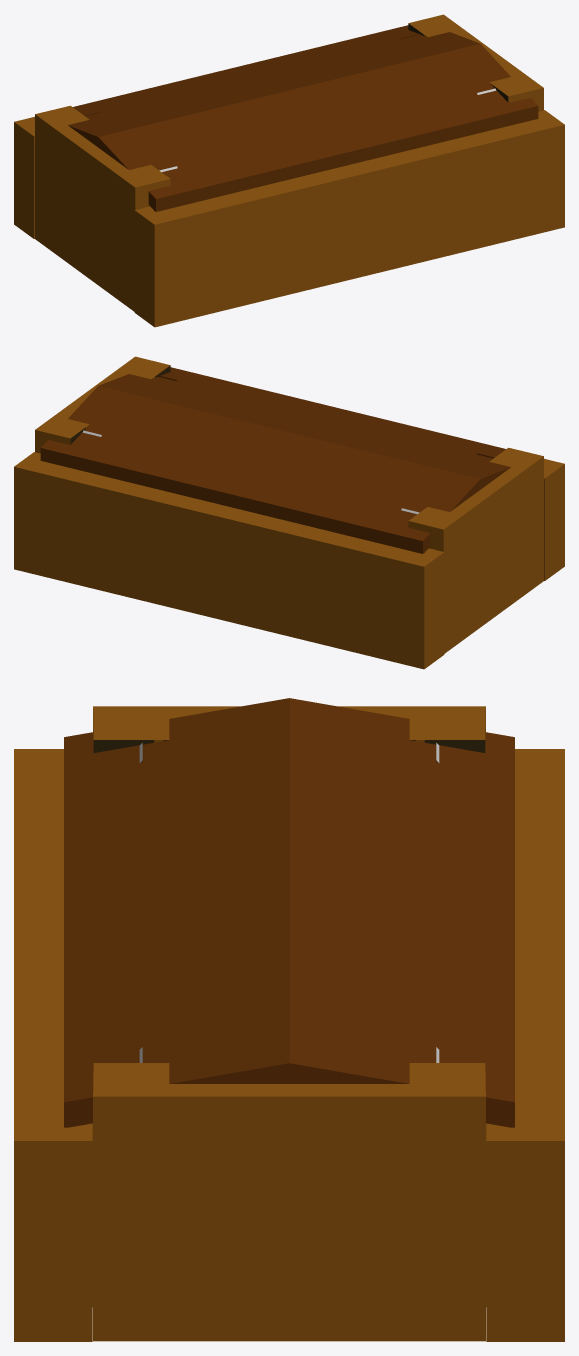
File: Kitchen_Dojo.fbx
The picture shows the model from 3 angles, top to bottom: view 1: azimuth 30°, elevation 25°; view 2: azimuth 150°, elevation 25°; view 3: azimuth 270°, elevation 25°; orthographic projection. The views are drawn at different scales.
Visible parts, largest first — view 1: Cube, Cube.002; view 2: Cube, Cube.002; view 3: Cube, Cube.002.
Part boxes in pixels (x1,y1,x2,y2): Cube: (14, 14, 564, 327); Cube.002: (68, 25, 538, 211); Cube: (14, 356, 564, 669); Cube.002: (40, 367, 510, 553); Cube: (14, 706, 564, 1341); Cube.002: (64, 698, 514, 1127).
Bounding box in the file's own units: 1932 × 621 × 1148.
